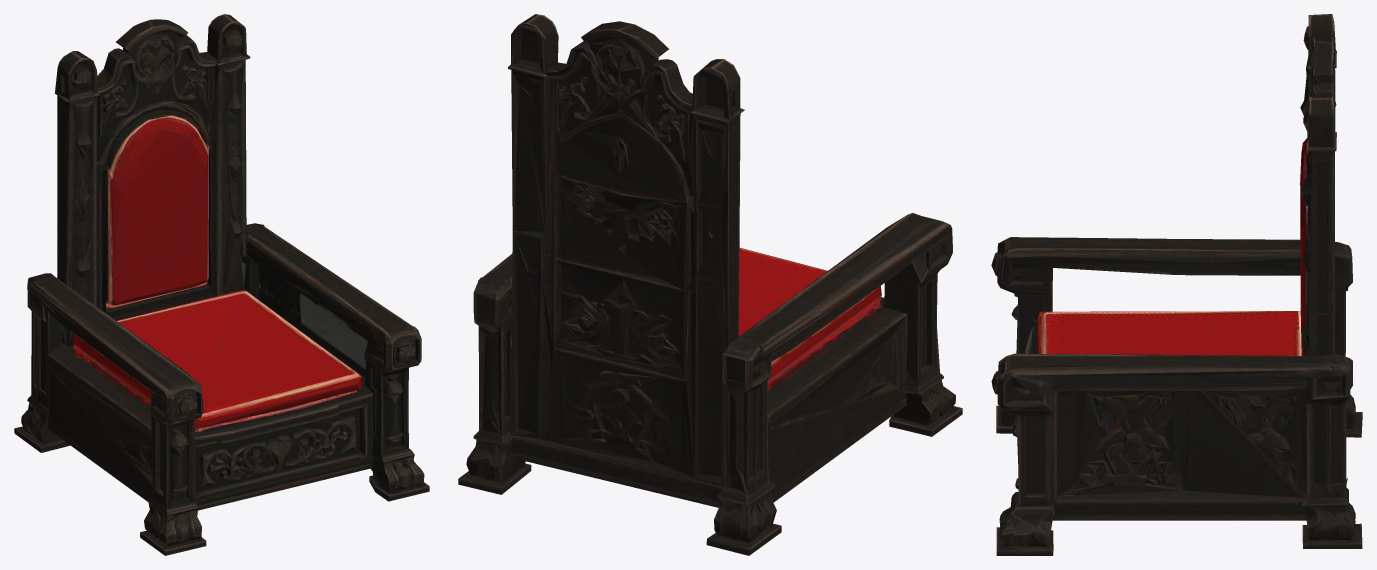
File: lords_chair.gltf
The picture shows the model from 3 angles, left to right: view 1: azimuth 30°, elevation 25°; view 2: azimuth 150°, elevation 25°; view 3: azimuth 270°, elevation 25°; orthographic projection. The views are drawn at different scales.
Parts seen in each view (by area): view 1: lords_chair; view 2: lords_chair; view 3: lords_chair.
Part boxes in pixels (x1,y1,x2,y2): lords_chair: (14,14,429,555); lords_chair: (458,14,962,555); lords_chair: (991,14,1362,555).
Bounding box in the file's own units: 0.8422 × 1.2 × 0.9137.
1 material, 1 textured.
